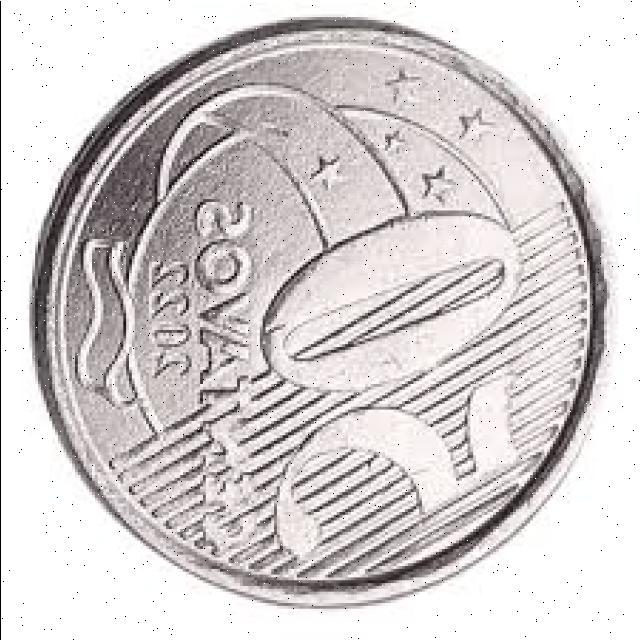50 cent: (31, 0, 612, 614)
